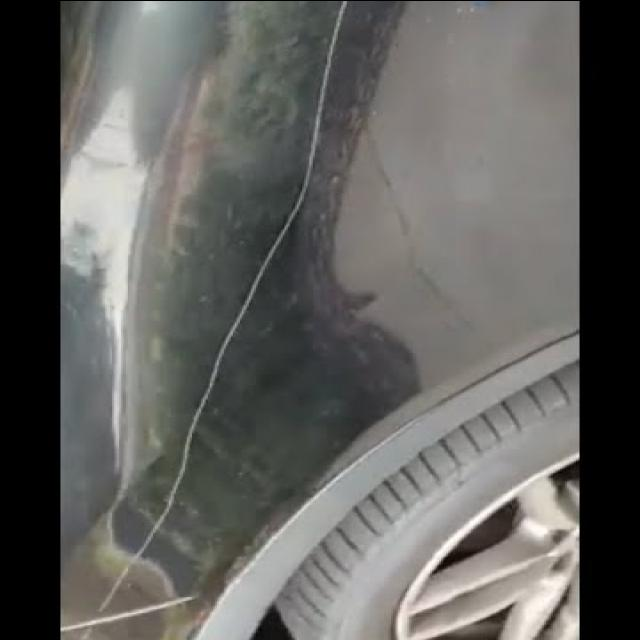paint-trace: (81, 1, 445, 634)
